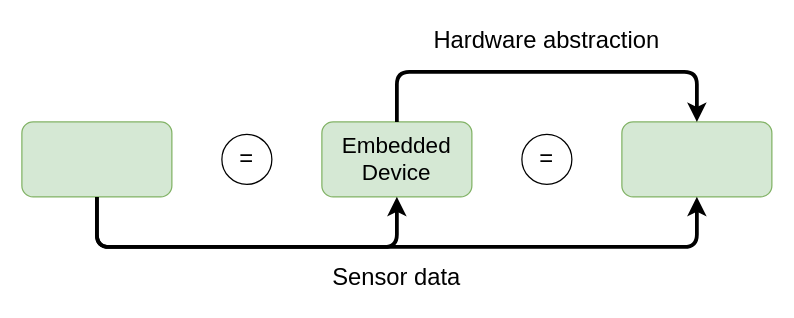
The diagram is 794 pixels wide and 318 high, and some of its shapes have lost their labels. The centre of each missing label's shape, as x and y in pixels:
"Host Device" goes at pixel 696 159.
"Vehicle" goes at pixel 96 159.
